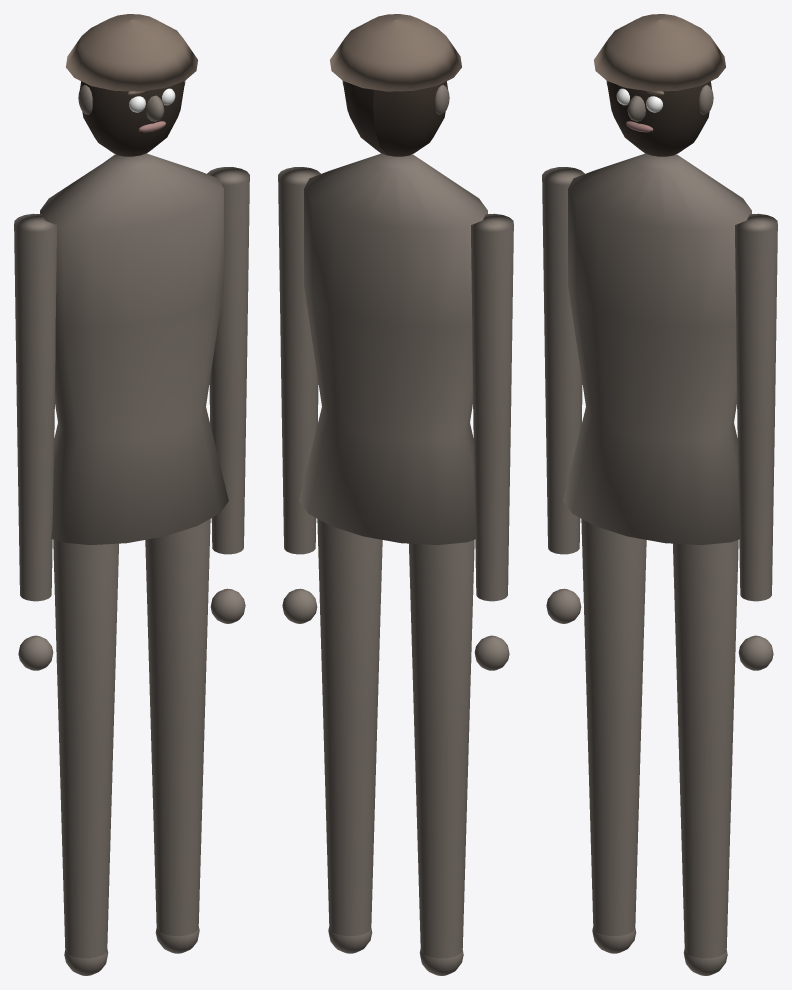
Rendered from avatar_mesh.glb.
The picture shows the model from 3 angles, left to right: view 1: azimuth 30°, elevation 25°; view 2: azimuth 150°, elevation 25°; view 3: azimuth 330°, elevation 25°; orthographic projection.
Visible parts, largest first — view 1: avatar; view 2: avatar; view 3: avatar.
Part boxes in pixels (left/top/right/bottom): avatar: left=14, top=14, right=249, bottom=975; avatar: left=278, top=14, right=513, bottom=975; avatar: left=542, top=14, right=777, bottom=975.
Bounding box in the file's own units: 0.4191 × 1.64 × 0.2105.
6 materials, 1 textured.
